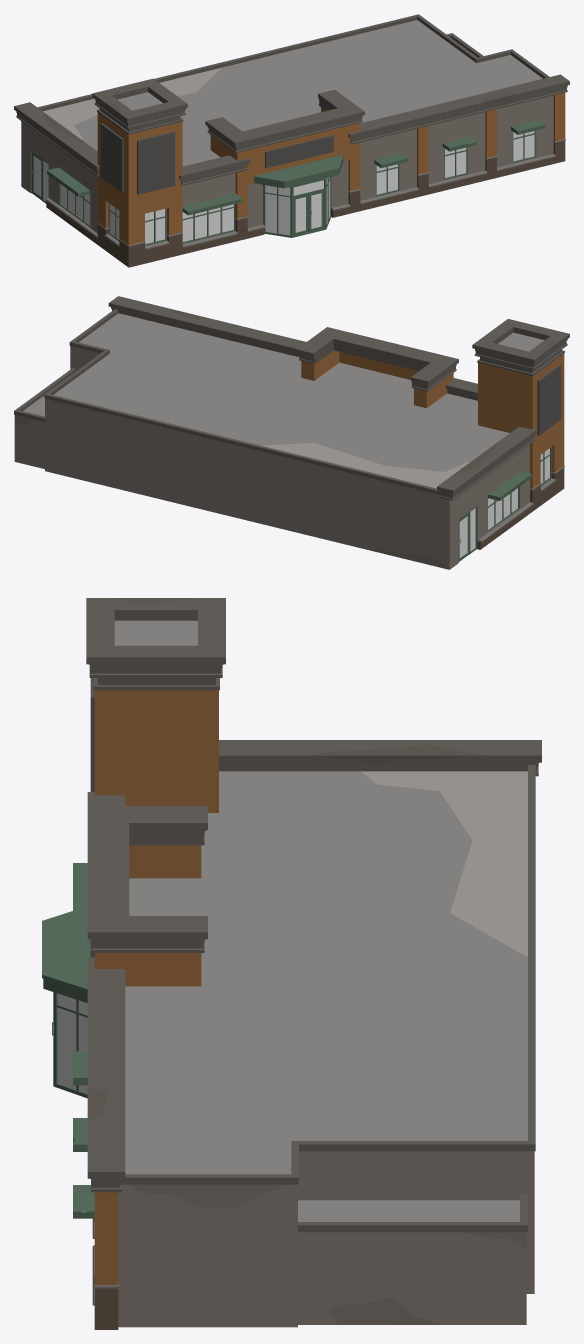
File: SM_Bldg_City_Generic_06.fbx
The picture shows the model from 3 angles, top to bottom: view 1: azimuth 30°, elevation 25°; view 2: azimuth 150°, elevation 25°; view 3: azimuth 270°, elevation 25°; orthographic projection. The views are drawn at different scales.
Parts seen in each view (by area): view 1: SM_Bldg_City_Generic_06, SM_Bldg_City_Generic_06_Glass; view 2: SM_Bldg_City_Generic_06, SM_Bldg_City_Generic_06_Glass; view 3: SM_Bldg_City_Generic_06, SM_Bldg_City_Generic_06_Glass.
Part boxes in pixels (box(x1,y1,x2,y2)): SM_Bldg_City_Generic_06: box(14, 14, 569, 267); SM_Bldg_City_Generic_06_Glass: box(43, 131, 534, 243); SM_Bldg_City_Generic_06: box(14, 296, 569, 569); SM_Bldg_City_Generic_06_Glass: box(470, 448, 549, 551); SM_Bldg_City_Generic_06: box(42, 598, 541, 1329); SM_Bldg_City_Generic_06_Glass: box(57, 993, 87, 1093).
Bounding box in the file's own units: 2627 × 845 × 1267.
